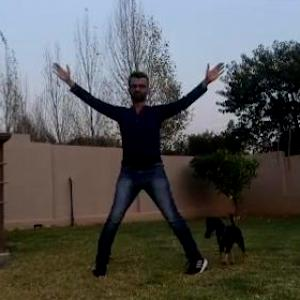takeoff: (103, 58, 261, 277)
